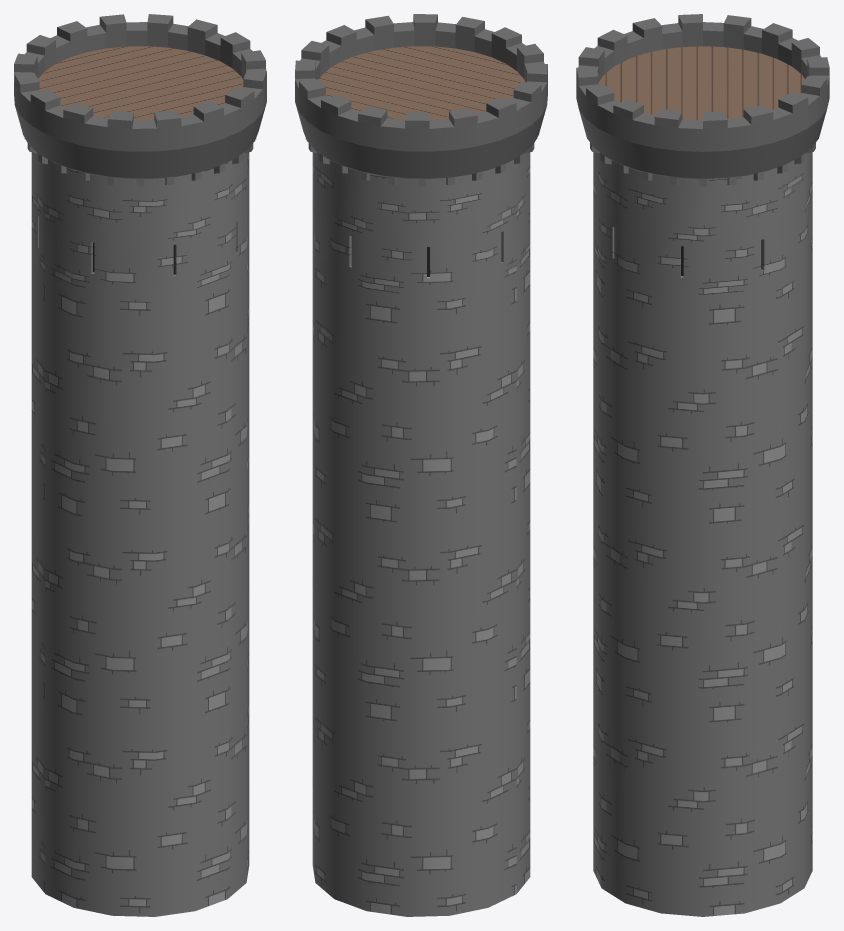
File: Torre.fbx
3 renders of one model, left to right at view 1: azimuth 30°, elevation 25°; view 2: azimuth 150°, elevation 25°; view 3: azimuth 270°, elevation 25°, orthographic.
Visible parts, largest first — view 1: group176_pCube974; view 2: group176_pCube974; view 3: group176_pCube974.
Part boxes in pixels (left/top/right/bottom): group176_pCube974: left=14, top=14, right=266, bottom=916; group176_pCube974: left=295, top=14, right=547, bottom=916; group176_pCube974: left=576, top=14, right=829, bottom=916.
Bounding box in the file's own units: 8.93 × 31.23 × 8.93.
